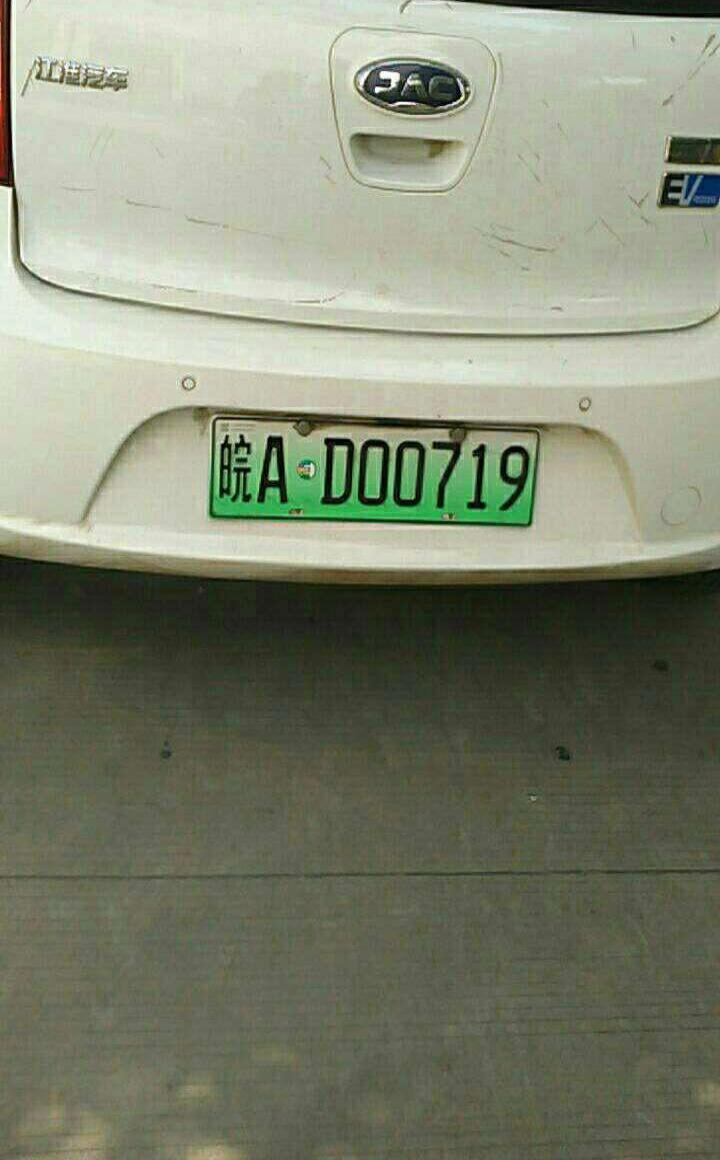car_id: (210, 415, 539, 525)
